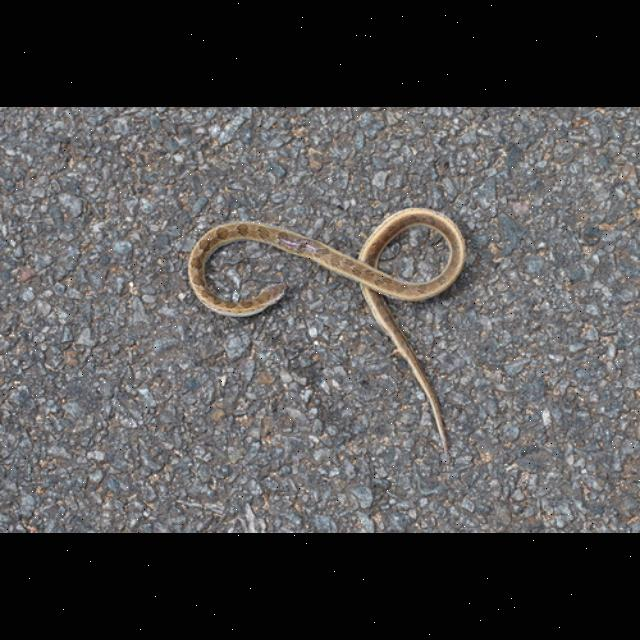snake: (189, 209, 463, 457)
